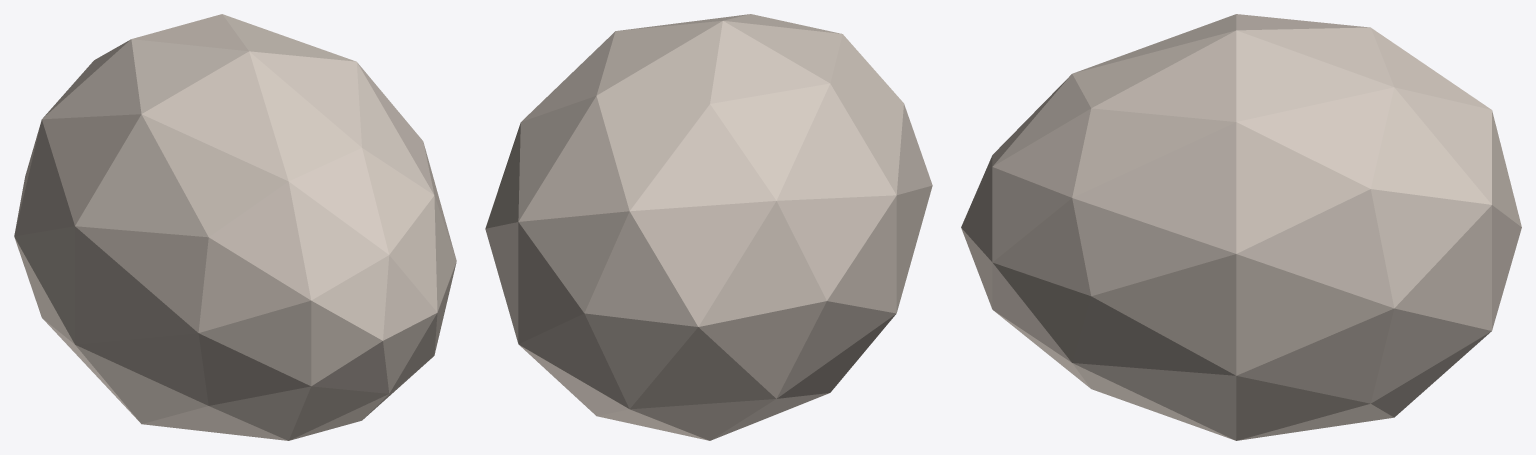
The model's file is Egg.fbx.
3 views of the same model, side by side, from view 1: azimuth 30°, elevation 25°; view 2: azimuth 150°, elevation 25°; view 3: azimuth 270°, elevation 25° (orthographic). The views are drawn at different scales.
Visible parts, largest first — view 1: Egg; view 2: Egg; view 3: Egg.
Boxes of the visible parts, x1,y1,x2,y2 form: Egg: [14, 14, 456, 440]; Egg: [485, 14, 932, 440]; Egg: [961, 14, 1521, 440].
Size of the model in its own units: 184 by 193 by 249.
1 material, 1 textured.
